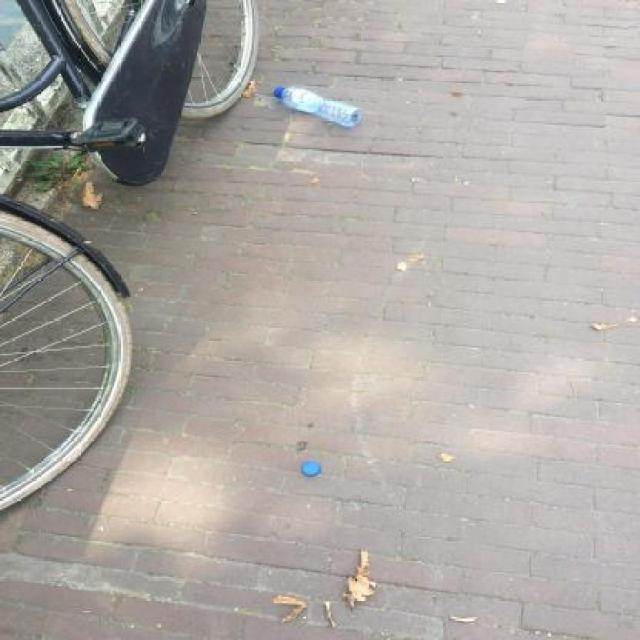plastic: (273, 86, 362, 128), (301, 461, 321, 476)
